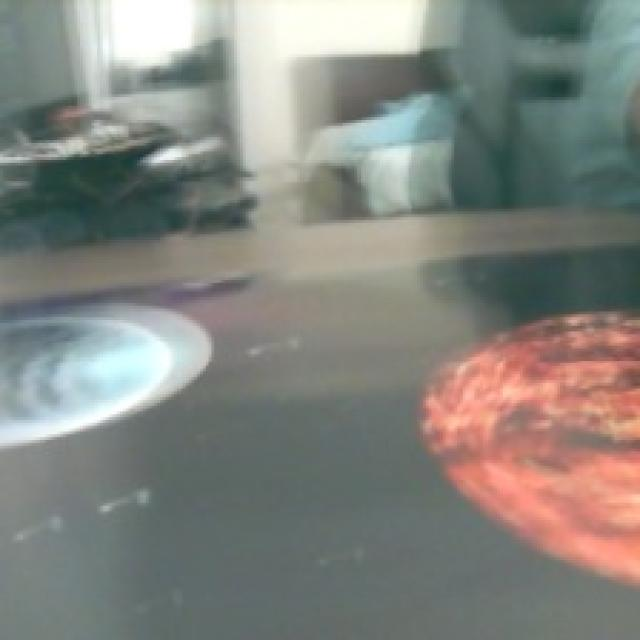Earth: (0, 308, 171, 448)
Sun: (417, 308, 640, 586)
